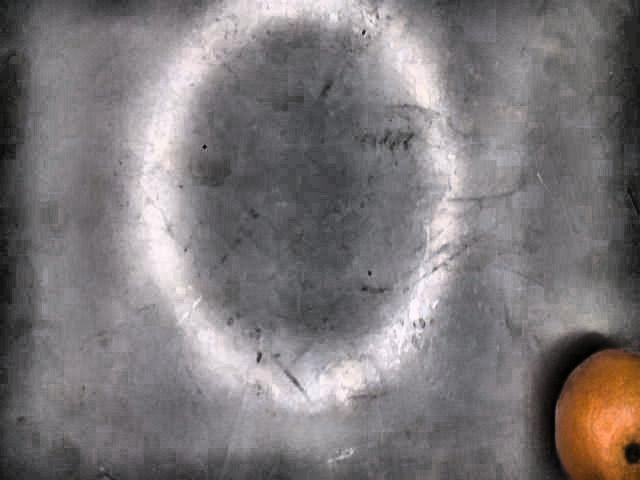Almennt: (551, 346, 640, 480)
